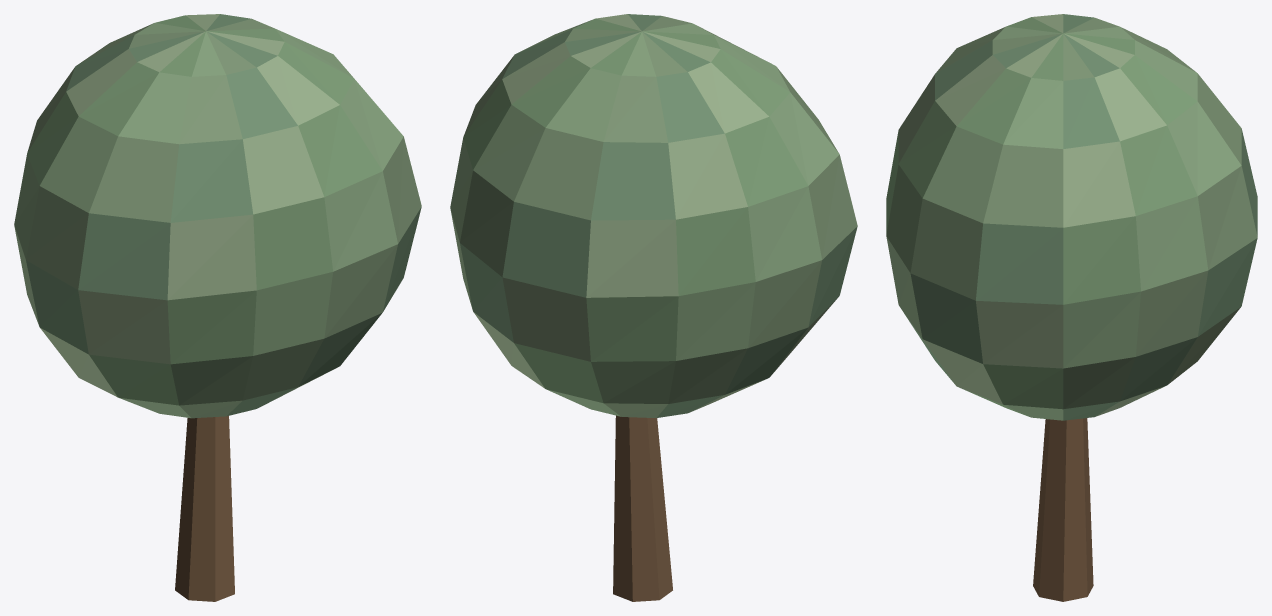
Rendered from ArrivalOak.glb.
3 renders of one model, left to right at view 1: azimuth 30°, elevation 25°; view 2: azimuth 150°, elevation 25°; view 3: azimuth 270°, elevation 25°, orthographic.
Size of the model in its own units: 1 by 1.48 by 0.8969.
